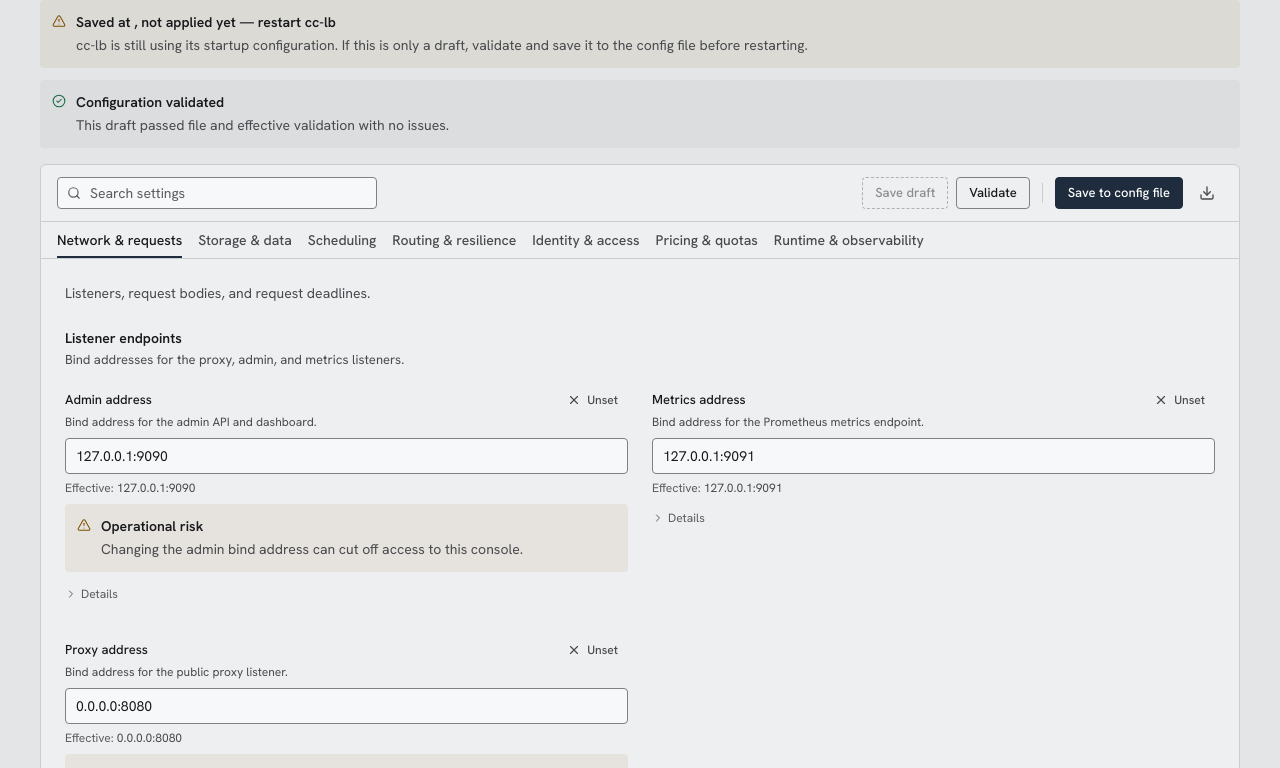
field actions appear only when they would change something
(page scrolled)
Expected: the button "Reset" is not shown
// Unset: inherited from defaults, the saved value differs — Reset restores it.
Click the button "Unset" in the row of "Admin address".
click(593, 400)  # box [557,386,628,414]
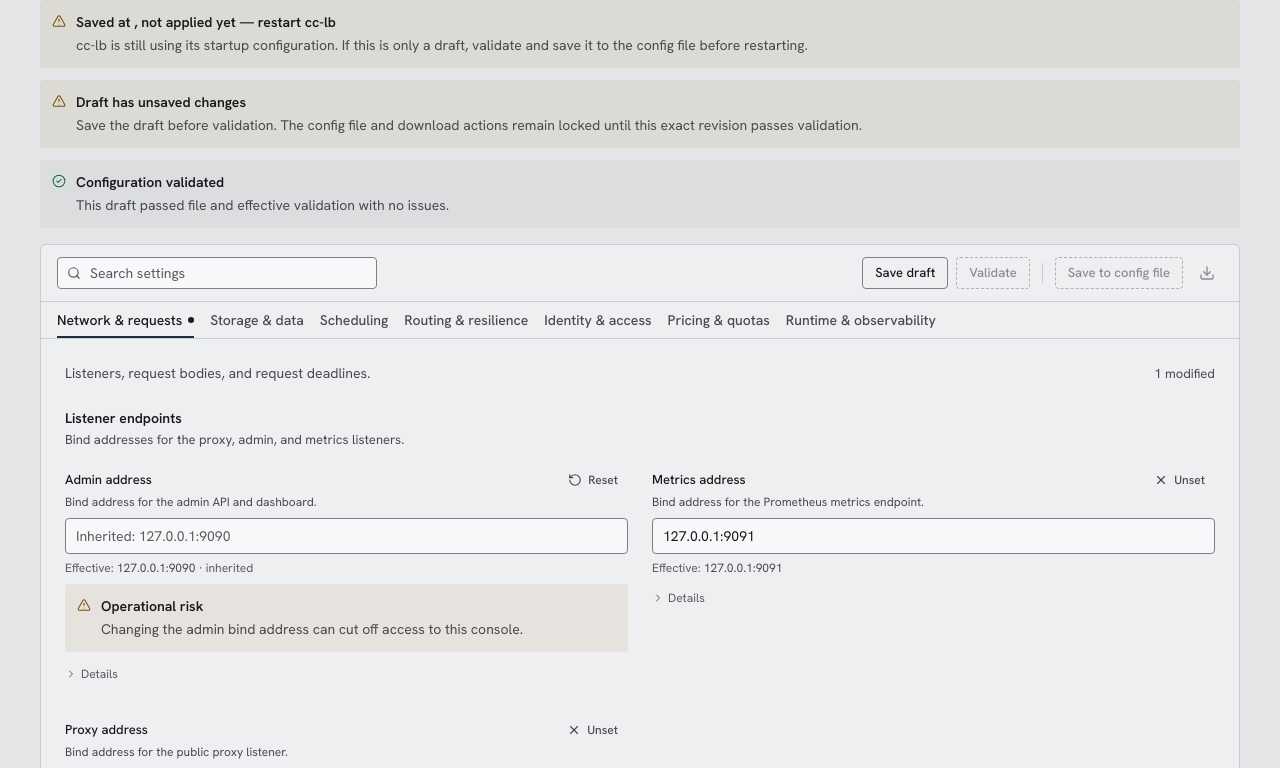
Click the button "Reset".
click(593, 480)  # box [558,466,628,494]
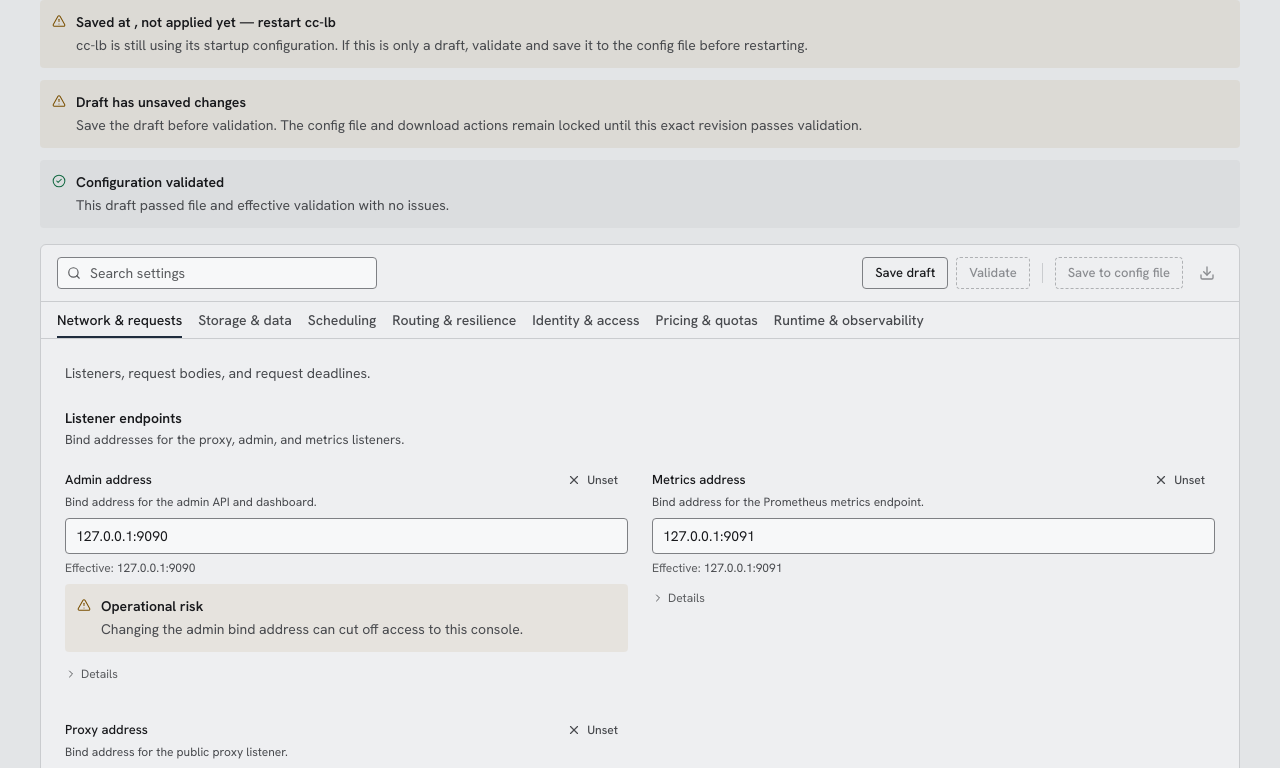
Now the field labelled "Admin address" holds "127.0.0.1:9090", box [65,518,628,554]
Now the button "Reset" is gone
